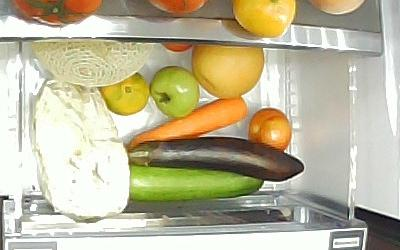cabbage: (31, 79, 129, 224)
carrot: (127, 93, 248, 151)
eggplant: (127, 136, 304, 182)
melon: (31, 40, 155, 88)
pear: (191, 44, 265, 101)
prune: (248, 106, 292, 152)
tangerine: (100, 71, 149, 116)
tomato: (150, 66, 200, 120)
zucchini: (129, 165, 264, 199)
